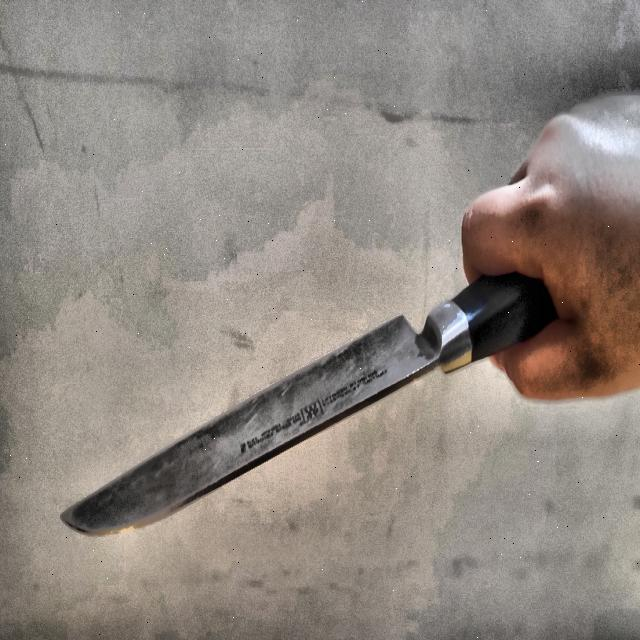knife: (59, 255, 558, 539)
